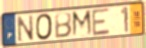1: (120, 5, 130, 35)
B: (54, 11, 73, 40)
E: (91, 7, 111, 37)
M: (71, 9, 94, 39)
N: (16, 14, 35, 44)
O: (35, 12, 54, 41)
